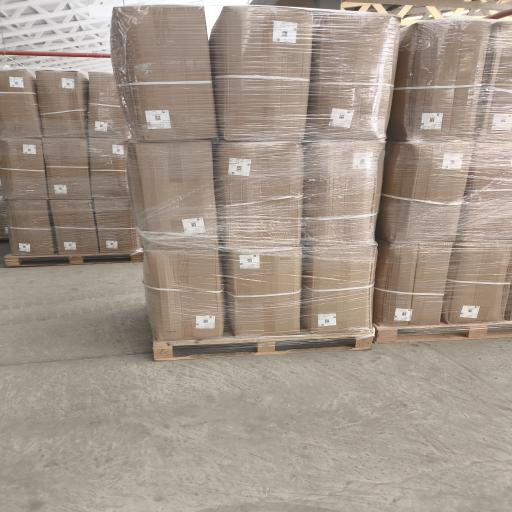pallet: (154, 334, 372, 361), (374, 322, 511, 343), (5, 251, 143, 267), (0, 238, 9, 244)
